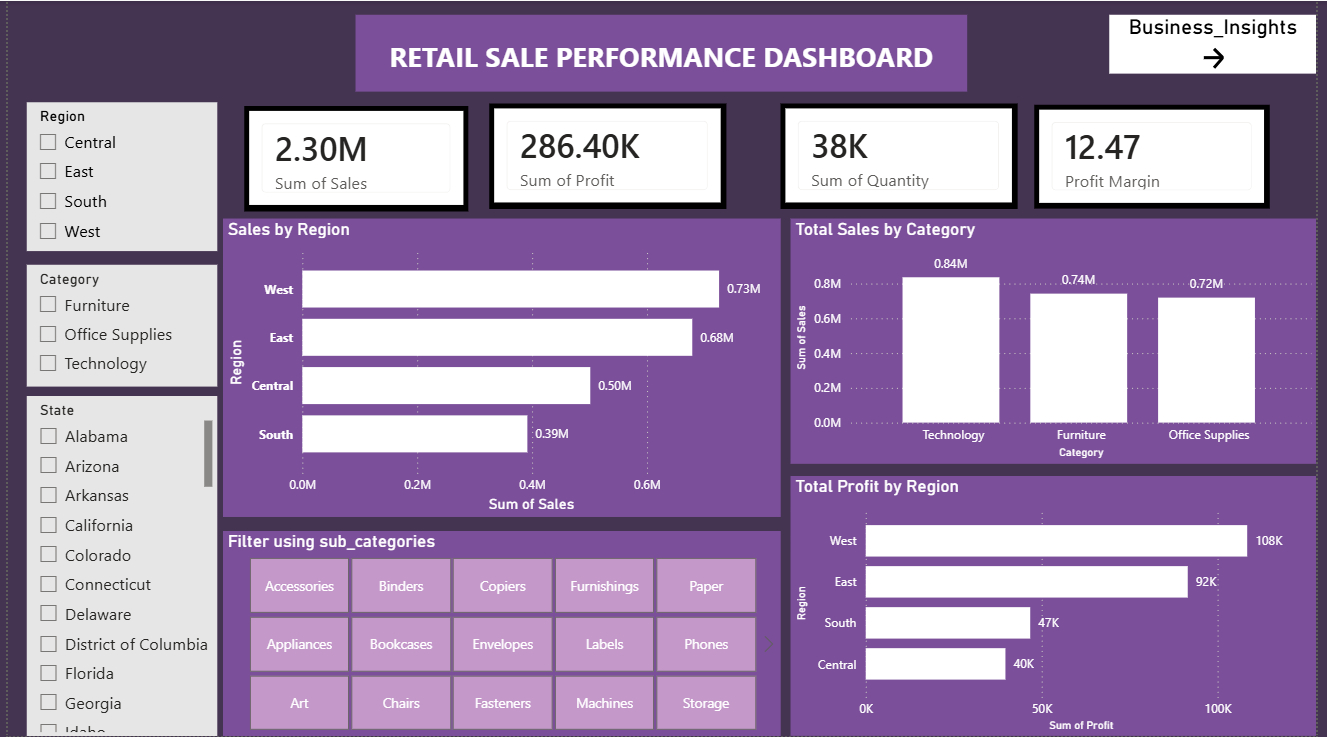

Layout of this report page (visuals, bound fields, positions):
{"tool":"powerbi","page":{"name":"Executiv_dashboard","canvas":[1280,720],"ordinal":0},"visuals":[{"type":"cardVisual","fields":{"Data":["Sum(SampleSuperstore.Sales)"]},"box":[230.5,102.9,219.6,102.9],"z":0},{"type":"textbox","box":[340.3,13.7,598.3,75.5],"z":1000},{"type":"cardVisual","fields":{"Data":["Sum(SampleSuperstore.Profit)"]},"box":[470.7,100.2,231.9,102.9],"z":2000},{"type":"cardVisual","fields":{"Data":["Sum(SampleSuperstore.Quantity)"]},"box":[756.1,100.2,231.9,102.9],"z":3000},{"type":"cardVisual","fields":{"Data":["SampleSuperstore.Profit Margin"]},"box":[1004.5,101.5,230.5,101.5],"z":4000},{"type":"clusteredBarChart","title":"Sales by Region","fields":{"Category":["SampleSuperstore.Region"],"Y":["Sum(SampleSuperstore.Sales)"]},"box":[210.3,212.8,545.4,292.3],"z":5000},{"type":"clusteredBarChart","title":"Total Profit by Region","fields":{"Category":["SampleSuperstore.Region"],"Y":["Sum(SampleSuperstore.Profit)"]},"box":[765.5,464.7,514.8,255.6],"z":6000},{"type":"clusteredColumnChart","title":"Total Sales by Category","fields":{"Category":["SampleSuperstore.Category"],"Y":["Sum(SampleSuperstore.Sales)"]},"box":[765.5,212.8,514.8,239.7],"z":7000},{"type":"slicer","fields":{"Values":["SampleSuperstore.Region"]},"box":[17.8,98.8,186.6,145.5],"z":8000},{"type":"slicer","fields":{"Values":["SampleSuperstore.Category"]},"box":[17.8,258,186.6,119.4],"z":9000},{"type":"slicer","fields":{"Values":["SampleSuperstore.State"]},"box":[17.8,387,186.6,333.4],"z":10000},{"type":"slicer","title":"Filter using sub_categories","fields":{"Values":["SampleSuperstore.Sub-Category"]},"box":[210.3,518.5,545.4,201.8],"z":10001},{"type":"actionButton","title":"Business_Insights","box":[1077.3,13.5,203,57.5],"z":10002}]}

Visuals, with their boxes in screenshot pixels (x1, y1, x2, y2), scaled from the page's 1280x720 canvas onto the 1327x737 screenshot:
cardVisual - Sum(SampleSuperstore.Sales): [239, 105, 467, 211]
textbox: [353, 14, 973, 91]
cardVisual - Sum(SampleSuperstore.Profit): [488, 103, 728, 208]
cardVisual - Sum(SampleSuperstore.Quantity): [784, 103, 1024, 208]
cardVisual - SampleSuperstore.Profit Margin: [1041, 104, 1280, 208]
"Sales by Region" clusteredBarChart: [218, 218, 783, 517]
"Total Profit by Region" clusteredBarChart: [794, 476, 1326, 736]
"Total Sales by Category" clusteredColumnChart: [794, 218, 1326, 463]
slicer - SampleSuperstore.Region: [18, 101, 212, 250]
slicer - SampleSuperstore.Category: [18, 264, 212, 386]
slicer - SampleSuperstore.State: [18, 396, 212, 736]
"Filter using sub_categories" slicer: [218, 531, 783, 736]
"Business_Insights" actionButton: [1117, 14, 1326, 73]
